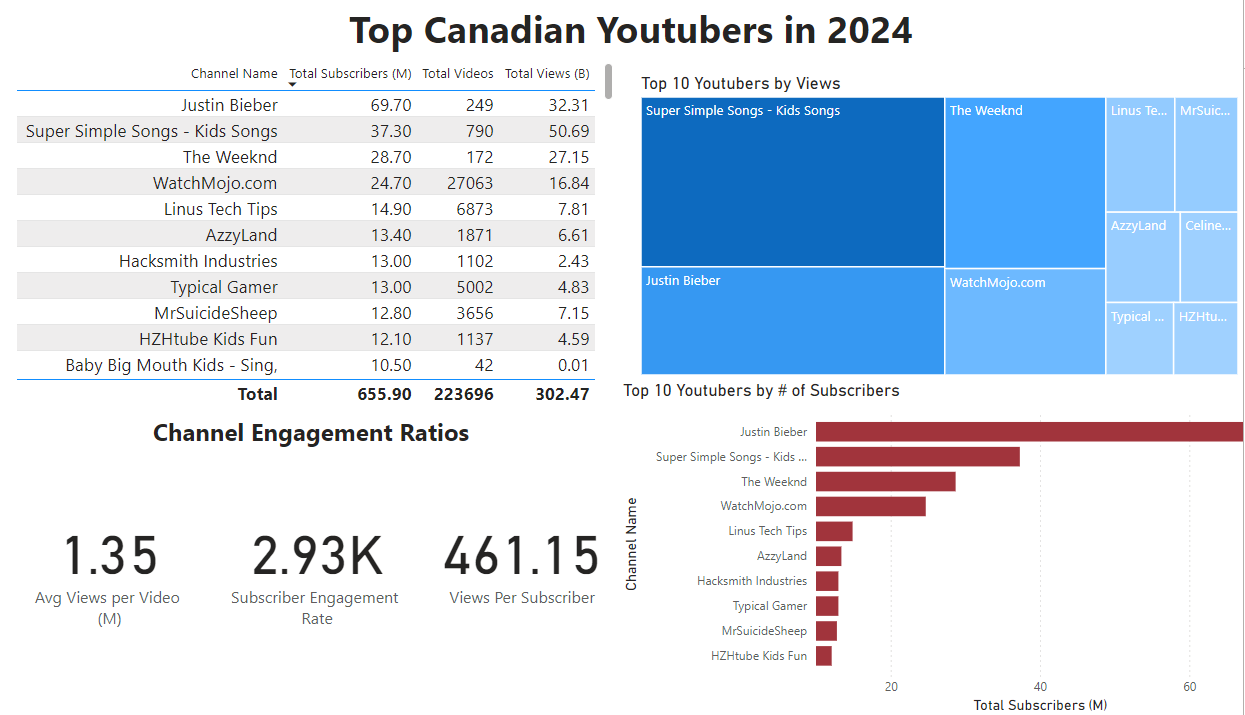

What the dashboard file says about the page in this screenshot:
{"tool":"powerbi","page":{"name":"Page 1","canvas":[1280,720],"ordinal":0},"visuals":[{"type":"textbox","box":[348.3,0,583.5,75.4],"z":0},{"type":"tableEx","fields":{"Values":["view_can_youtubers_2024.channel_name","view_can_youtubers_2024.Total Subscribers (M)","view_can_youtubers_2024.Total Videos","view_can_youtubers_2024.Total Views (B)"]},"box":[15.3,60.1,606.9,352.3],"z":1000},{"type":"treemap","title":"Top 10 Youtubers by Views","fields":{"Group":["view_can_youtubers_2024.channel_name"],"Values":["view_can_youtubers_2024.Total Views (B)"]},"box":[622.2,75.4,650.7,306.5],"z":2000},{"type":"card","fields":{"Values":["view_can_youtubers_2024.Avg Views per Video (M)"]},"box":[15.3,466.4,196.5,187.4],"z":3000},{"type":"card","fields":{"Values":["view_can_youtubers_2024.Subscriber Engagement Rate"]},"box":[211.8,466.4,217.9,187.4],"z":4000},{"type":"card","fields":{"Values":["view_can_youtubers_2024.Views Per Subscriber"]},"box":[429.7,466.4,192.5,187.4],"z":5000},{"type":"clusteredBarChart","title":"Top 10 Youtubers by # of Subscribers","fields":{"Category":["view_can_youtubers_2024.channel_name"],"Y":["view_can_youtubers_2024.Total Subscribers (M)"]},"box":[622.2,381.9,657.8,338.1],"z":6000},{"type":"textbox","box":[151.7,412.4,338.1,37.7],"z":7000}]}

Visuals, with their boxes in screenshot pixels (x1, y1, x2, y2), scaled from the page's 1280x720 canvas onto the 1245x715 screenshot:
textbox: <region>339, 0, 906, 75</region>
tableEx - view_can_youtubers_2024.channel_name x view_can_youtubers_2024.Total Subscribers (M): <region>15, 60, 605, 410</region>
"Top 10 Youtubers by Views" treemap: <region>605, 75, 1238, 379</region>
card - view_can_youtubers_2024.Avg Views per Video (M): <region>15, 463, 206, 649</region>
card - view_can_youtubers_2024.Subscriber Engagement Rate: <region>206, 463, 418, 649</region>
card - view_can_youtubers_2024.Views Per Subscriber: <region>418, 463, 605, 649</region>
"Top 10 Youtubers by # of Subscribers" clusteredBarChart: <region>605, 379, 1244, 714</region>
textbox: <region>148, 410, 476, 447</region>
